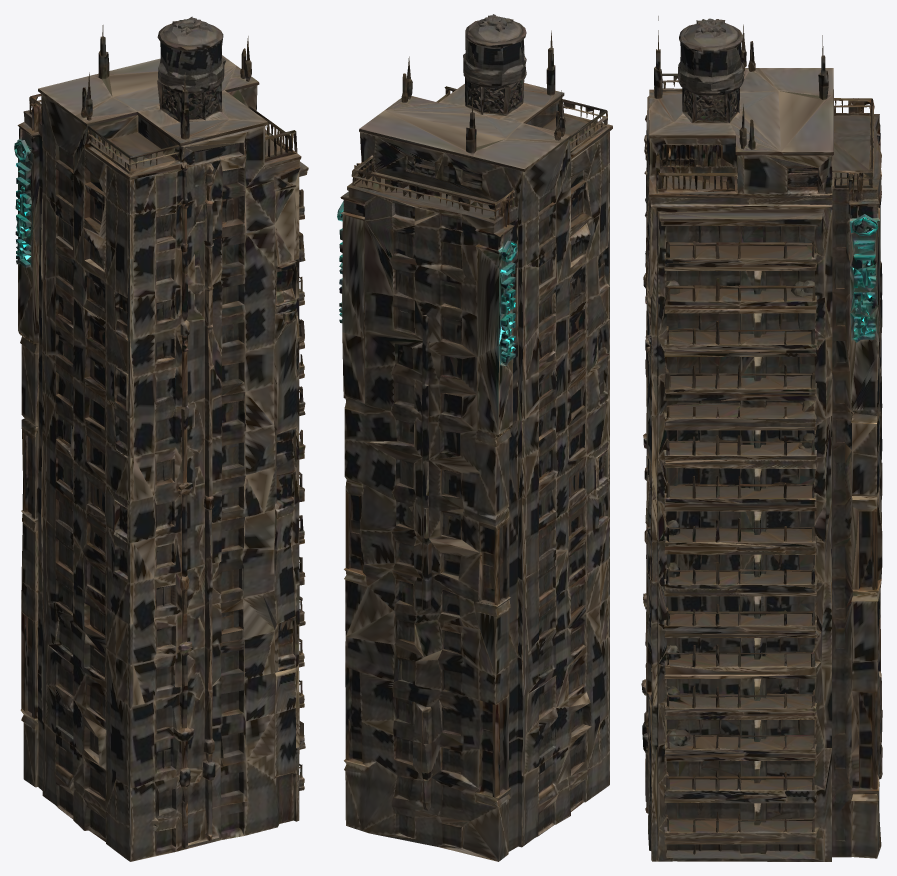
3 renders of one model, left to right at view 1: azimuth 30°, elevation 25°; view 2: azimuth 150°, elevation 25°; view 3: azimuth 270°, elevation 25°, orthographic. The views are drawn at different scales.
Visible parts, largest first — view 1: b01; view 2: b01; view 3: b01.
Part boxes in pixels (<box>): b01: <box>14,16,308,861</box>; b01: <box>337,14,612,861</box>; b01: <box>641,16,882,861</box>.
Size of the model in its own units: 17.87 by 72 by 19.69.
Materials: 1 (1 with a texture image).
